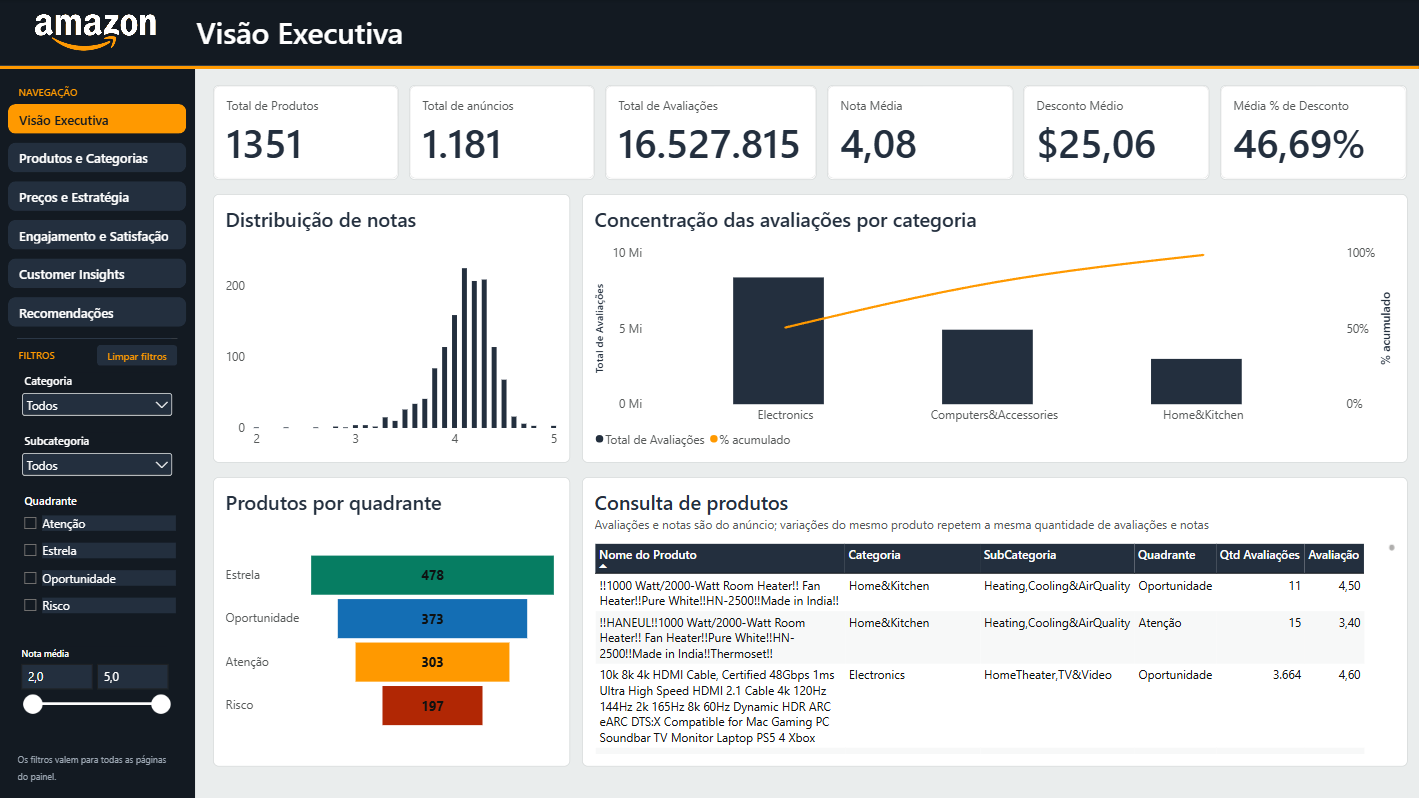

Layout of this report page (visuals, bound fields, positions):
{"tool":"powerbi","page":{"name":"Visão Executiva","canvas":[1920,1080],"ordinal":0},"visuals":[{"type":"textbox","box":[0,0,1920,90],"z":0},{"type":"textbox","box":[0,94,264,986],"z":1000},{"type":"textbox","box":[0,90,1920,4],"z":2000},{"type":"pageNavigator","box":[12,142,240,300],"z":3000},{"type":"textbox","box":[24,112,216,24],"z":4000},{"type":"textbox","box":[24,456,216,1],"z":5000},{"type":"textbox","box":[24,466,216,24],"z":6000},{"type":"textbox","box":[23.3,1009.6,217.4,51.1],"z":7000},{"type":"cardVisual","fields":{"Data":["Medidas.qtd_produtos"]},"box":[288.2,115.8,250,127.9],"z":8000},{"type":"cardVisual","fields":{"Data":["Medidas.soma_ranting_count"]},"box":[815.6,115.8,285.5,127.9],"z":9000},{"type":"cardVisual","fields":{"Data":["Medidas.media_rating"]},"box":[1114.8,115.8,251,127.9],"z":10000},{"type":"cardVisual","fields":{"Data":["Medidas.media_desconto"]},"box":[1379.5,115.8,251,127.9],"z":11000},{"type":"cardVisual","fields":{"Data":["Medidas.media_discount_percent"]},"box":[1644.2,115.8,251.8,127.9],"z":12000},{"type":"lineClusteredColumnComboChart","title":"Distribuição de notas","fields":{"Category":["dProdutos.avaliação"],"Y":["Medidas.qtd_produtos"]},"box":[288,263,481,362.1],"z":13000},{"type":"lineClusteredColumnComboChart","title":"Concentração das avaliações por categoria","fields":{"Category":["dProdutos.categoria_principal"],"Y":["Medidas.soma_ranting_count"],"Y2":["Medidas.%_acumulado"]},"box":[784.5,263,1111.5,362.1],"z":14000},{"type":"funnel","title":"Produtos por quadrante","fields":{"Category":["dProdutos.quadrante"],"Y":["Medidas.qtd_produtos"]},"box":[288,644.2,481,389.8],"z":15000},{"type":"tableEx","title":"Consulta de produtos","fields":{"Values":["dProdutos.product_name","dProdutos.categoria_principal","dProdutos.categoria_nivel2","dProdutos.quadrante","Medidas.soma_ranting_count","Medidas.media_rating"]},"box":[784.5,644.2,1111.5,389.8],"z":16000},{"type":"image","box":[20.4,0,218.8,90.5],"z":17000},{"type":"slicer","fields":{"Values":["dProdutos.categoria_nivel2"]},"box":[16,576,232,66],"z":18000},{"type":"slicer","fields":{"Values":["dProdutos.categoria_principal"]},"box":[16,496,232,66],"z":19000},{"type":"slicer","fields":{"Values":["dProdutos.rating"]},"box":[11.7,865.2,232,110],"z":20000},{"type":"slicer","fields":{"Values":["dProdutos.quadrante"]},"box":[16,656.5,232,188.2],"z":21000},{"type":"actionButton","box":[132,466,108,28],"z":22000},{"type":"cardVisual","fields":{"Data":["Medidas.Total de anúncios"]},"box":[551.9,115.8,250,127.9],"z":23000}]}

Visuals, with their boxes on the page's 1920x1080 design canvas (x1, y1, x2, y2). These are canvas units, not pixel positions in the 1419x798 screenshot, which may show the page scaled, cropped or inside an application window:
textbox: bbox=[0, 0, 1920, 90]
textbox: bbox=[0, 94, 264, 1080]
textbox: bbox=[0, 90, 1920, 94]
pageNavigator: bbox=[12, 142, 252, 442]
textbox: bbox=[24, 112, 240, 136]
textbox: bbox=[24, 456, 240, 457]
textbox: bbox=[24, 466, 240, 490]
textbox: bbox=[23, 1010, 241, 1061]
cardVisual - Medidas.qtd_produtos: bbox=[288, 116, 538, 244]
cardVisual - Medidas.soma_ranting_count: bbox=[816, 116, 1101, 244]
cardVisual - Medidas.media_rating: bbox=[1115, 116, 1366, 244]
cardVisual - Medidas.media_desconto: bbox=[1380, 116, 1630, 244]
cardVisual - Medidas.media_discount_percent: bbox=[1644, 116, 1896, 244]
"Distribuição de notas" lineClusteredColumnComboChart: bbox=[288, 263, 769, 625]
"Concentração das avaliações por categoria" lineClusteredColumnComboChart: bbox=[784, 263, 1896, 625]
"Produtos por quadrante" funnel: bbox=[288, 644, 769, 1034]
"Consulta de produtos" tableEx: bbox=[784, 644, 1896, 1034]
image: bbox=[20, 0, 239, 90]
slicer - dProdutos.categoria_nivel2: bbox=[16, 576, 248, 642]
slicer - dProdutos.categoria_principal: bbox=[16, 496, 248, 562]
slicer - dProdutos.rating: bbox=[12, 865, 244, 975]
slicer - dProdutos.quadrante: bbox=[16, 656, 248, 845]
actionButton: bbox=[132, 466, 240, 494]
cardVisual - Medidas.Total de anúncios: bbox=[552, 116, 802, 244]
